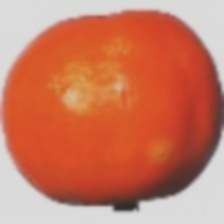tangerine: (27, 24, 220, 189)
